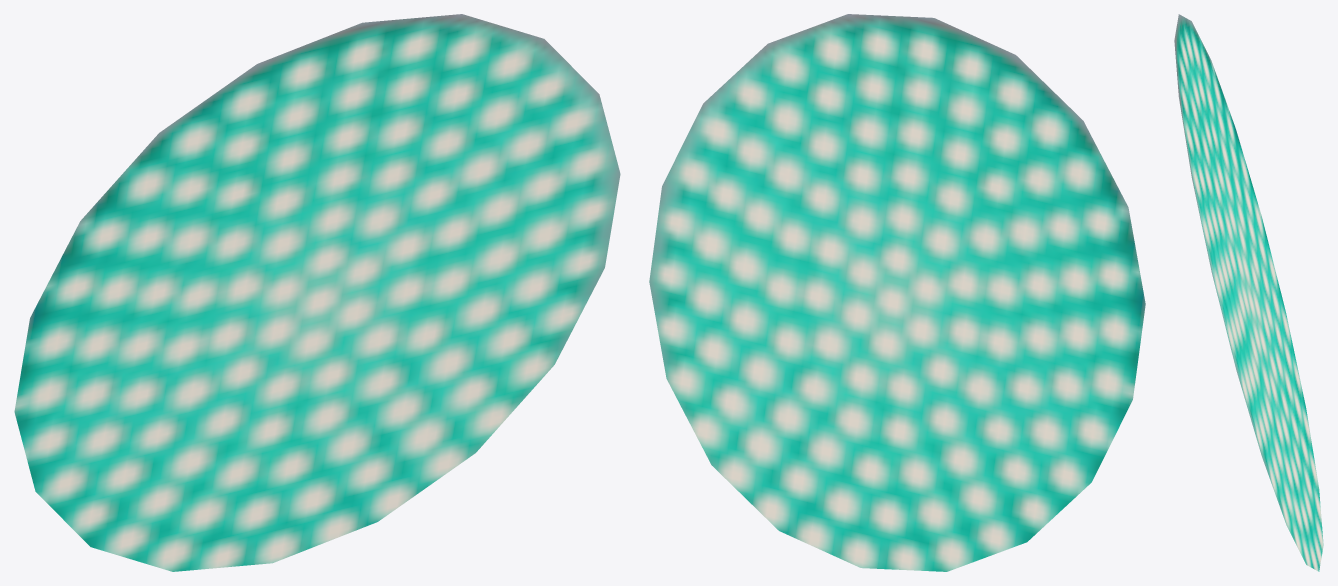
Rendered from L_CarGreen.glb.
The picture shows the model from 3 angles, left to right: view 1: azimuth 30°, elevation 25°; view 2: azimuth 150°, elevation 25°; view 3: azimuth 270°, elevation 25°; orthographic projection. The views are drawn at different scales.
Visible parts, largest first — view 1: L青; view 2: L青; view 3: L青.
Boxes of the visible parts, left/top/right/bottom form: L青: left=14, top=14, right=620, bottom=571; L青: left=649, top=14, right=1145, bottom=571; L青: left=1174, top=14, right=1323, bottom=571.
Size of the model in its own units: 0.2462 by 0.2415 by 0.0647.
1 material, 1 textured.
